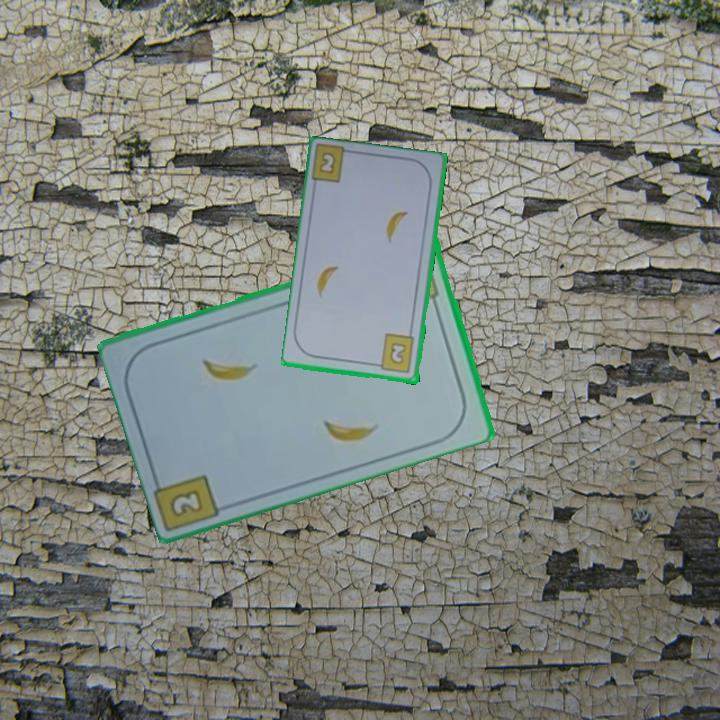2b: (371, 331, 418, 376), (166, 485, 207, 520), (316, 149, 339, 177)
